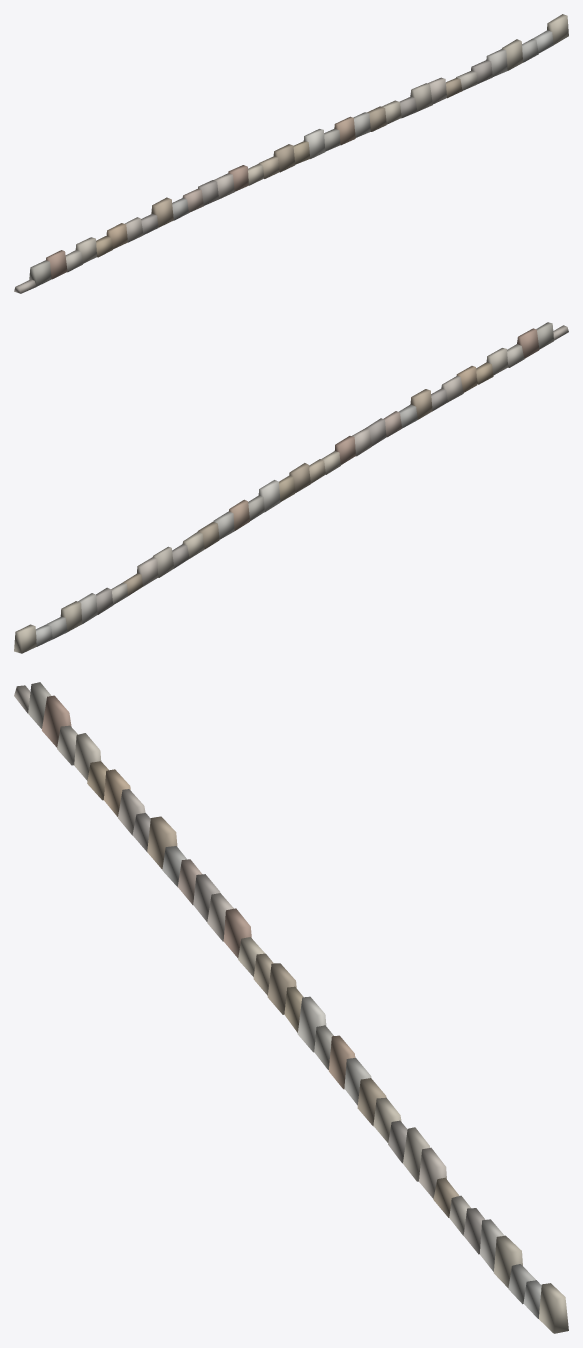
File: farm_-23_-27_far.glb
3 views of the same model, one above another, from view 1: azimuth 30°, elevation 25°; view 2: azimuth 210°, elevation 25°; view 3: azimuth 270°, elevation 25° (orthographic). The views are drawn at different scales.
Parts seen in each view (by area): view 1: geometry_0; view 2: geometry_0; view 3: geometry_0.
Boxes of the visible parts, left/top/right/bottom form: geometry_0: left=14, top=14, right=568, bottom=293; geometry_0: left=14, top=322, right=568, bottom=653; geometry_0: left=14, top=682, right=568, bottom=1333.
Size of the model in its own units: 53.47 by 3.81 by 21.38.
